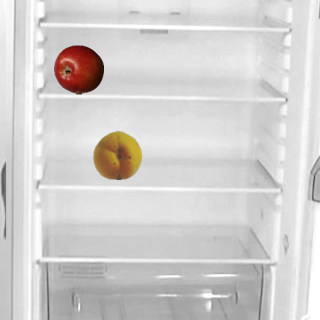Apple Braeburn: (53, 44, 103, 94)
Peach 2: (92, 129, 142, 179)
